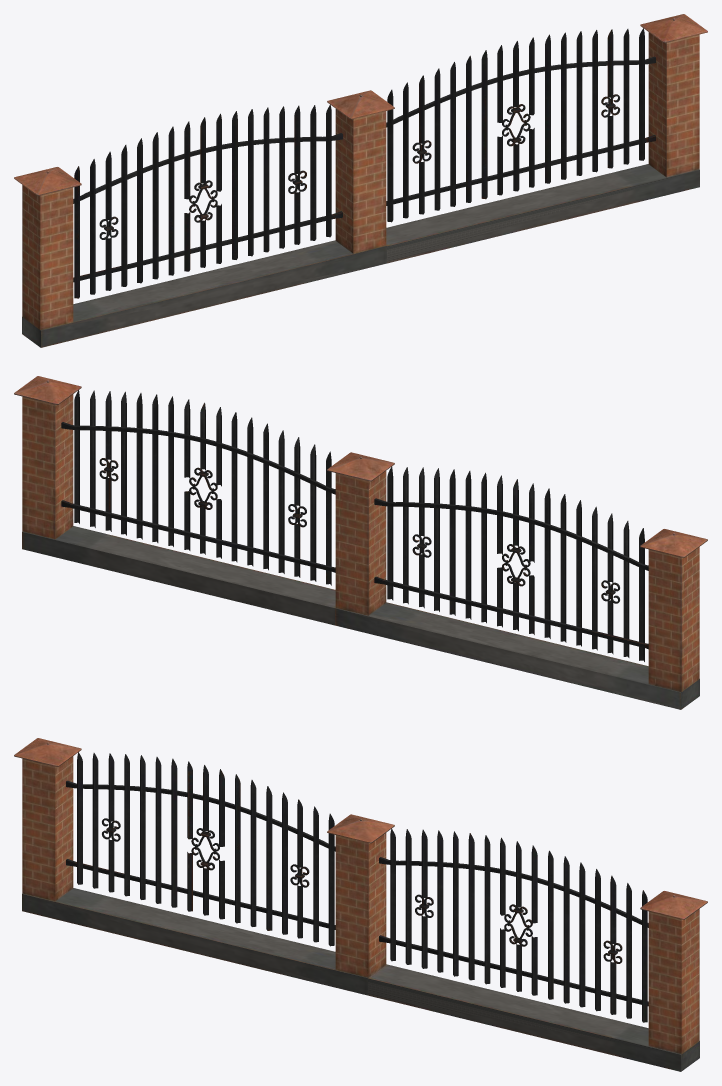
File: brick_and_iron_segment_fence_5990a780.glb
3 views of the same model, one above another, from view 1: azimuth 30°, elevation 25°; view 2: azimuth 150°, elevation 25°; view 3: azimuth 330°, elevation 25° (orthographic).
Visible parts, largest first — view 1: brick_and_iron_segment_fence_5990a780; view 2: brick_and_iron_segment_fence_5990a780; view 3: brick_and_iron_segment_fence_5990a780.
Boxes of the visible parts, left/top/right/bottom form: brick_and_iron_segment_fence_5990a780: left=14, top=14, right=707, bottom=347; brick_and_iron_segment_fence_5990a780: left=14, top=376, right=707, bottom=709; brick_and_iron_segment_fence_5990a780: left=14, top=738, right=707, bottom=1071.
Size of the model in its own units: 6.57 by 1.7 by 0.4112.
1 material, 1 textured.
